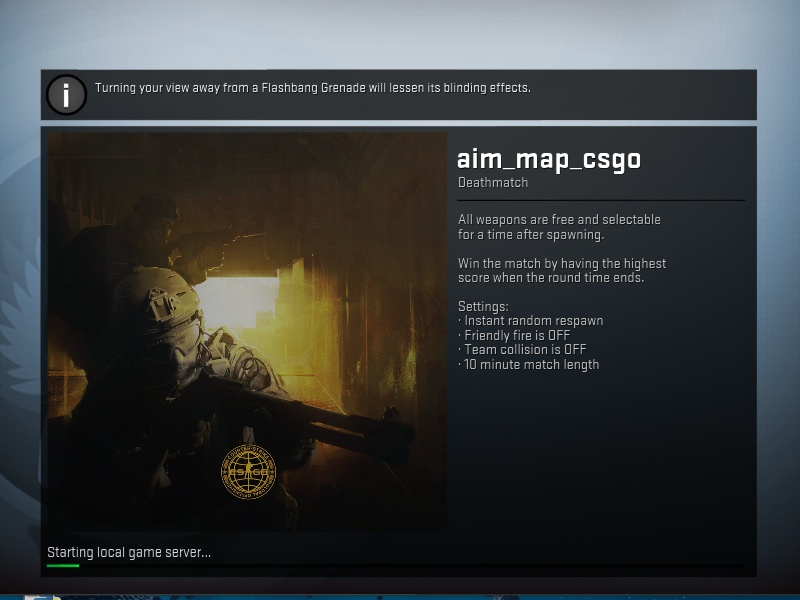c 0.40: (56, 72, 262, 600)
ch 0.49: (116, 179, 177, 263)
